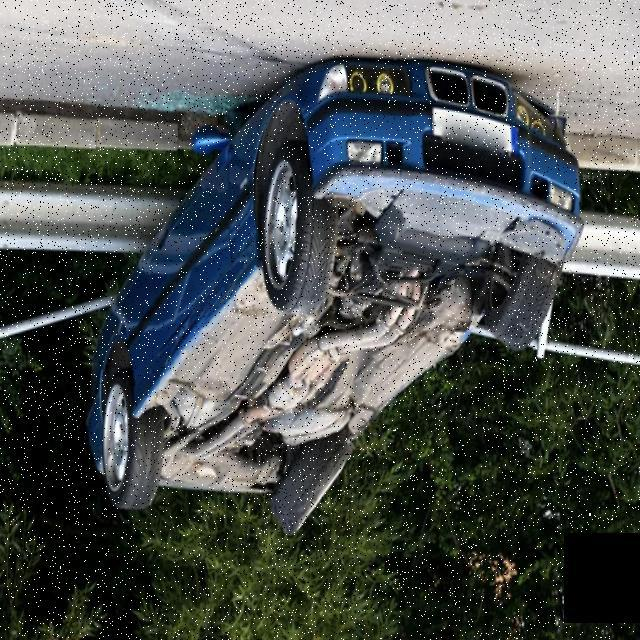severe: (81, 58, 588, 547)
